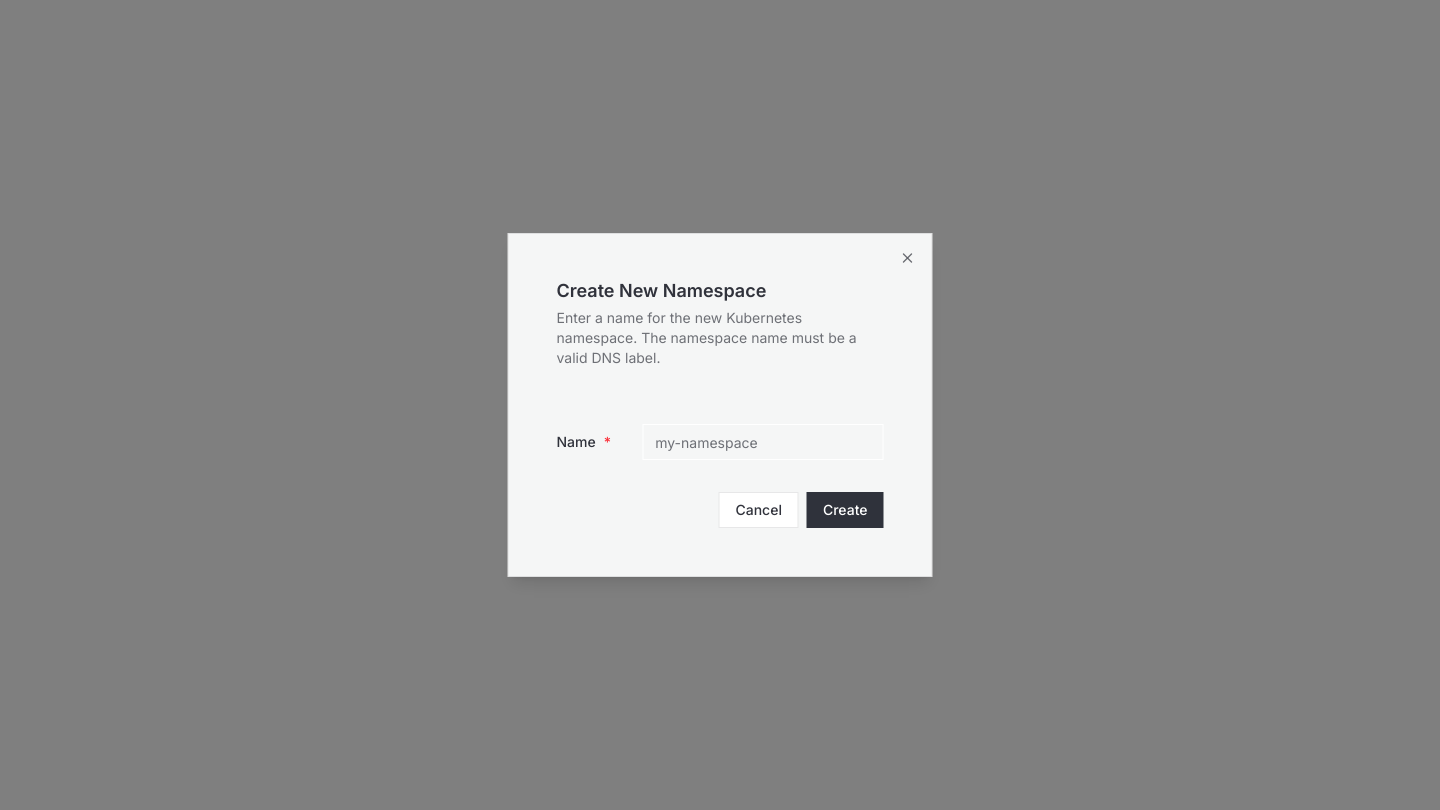
NamespaceEditor › validation › should show error for name starting with hyphen
Type "-invalid-name" into the field with placeholder "my-namespace" at (763,442), box left=642, top=424, right=884, bottom=460
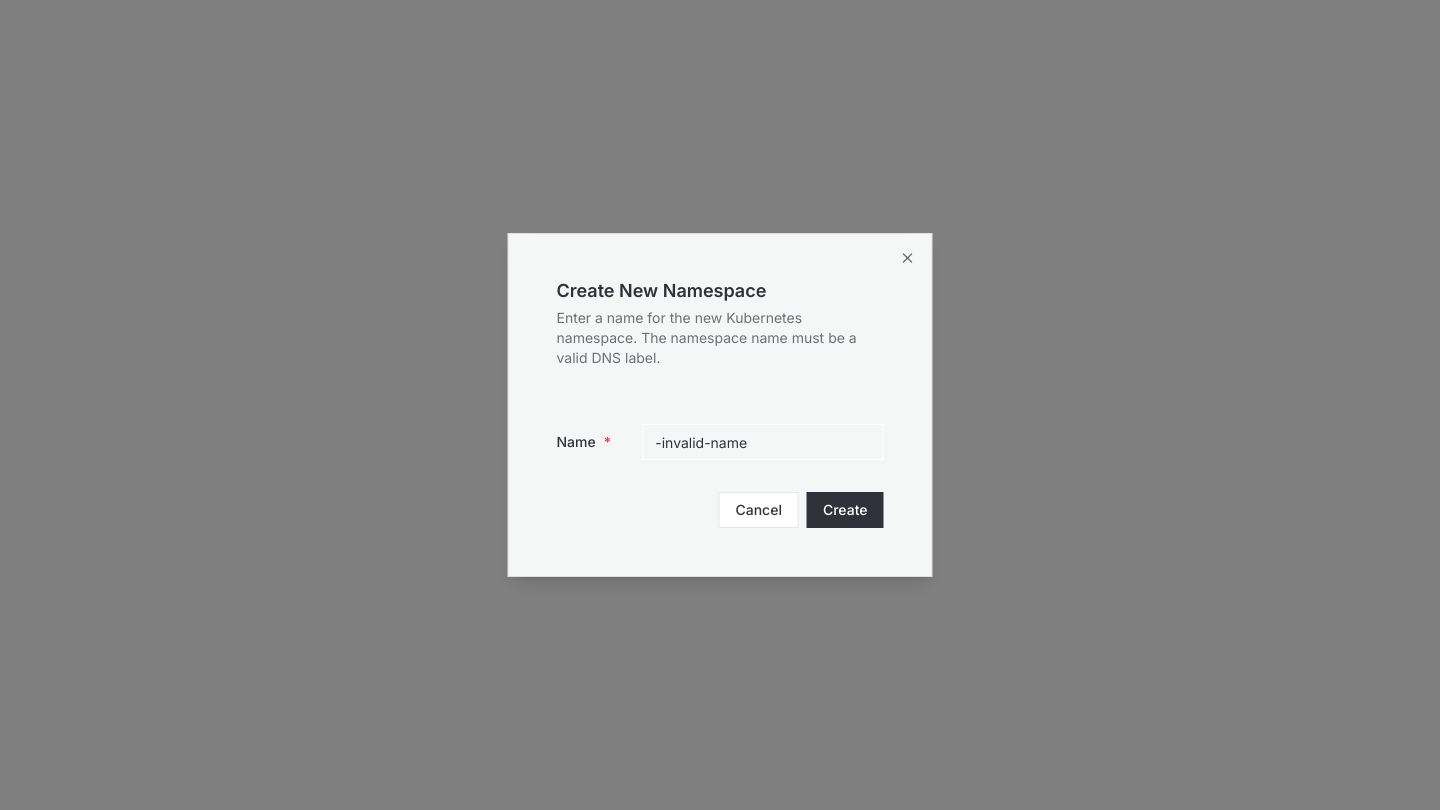
Click the button "Create" at (845,510), box left=807, top=492, right=884, bottom=528
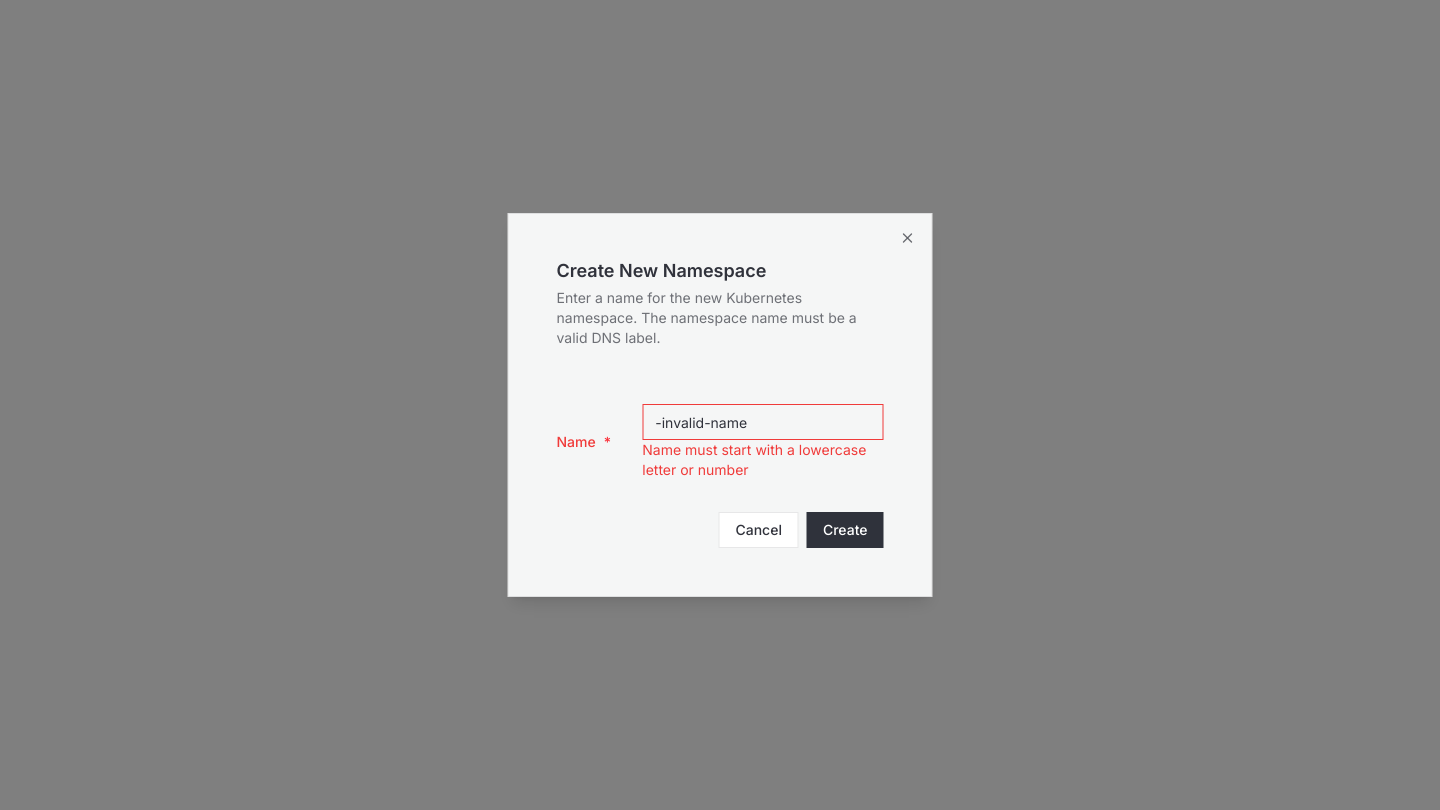
Result: the text "Name must start with a lowercase letter or number" is shown at left=642, top=440, right=884, bottom=480
